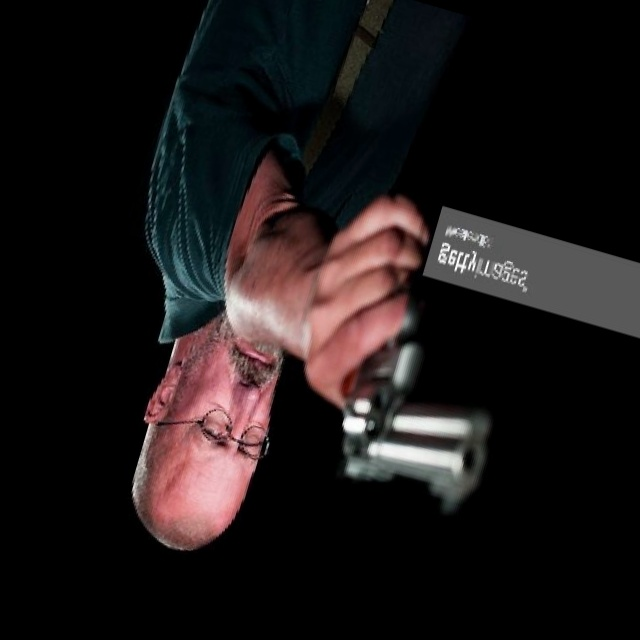gun: (321, 291, 517, 519)
